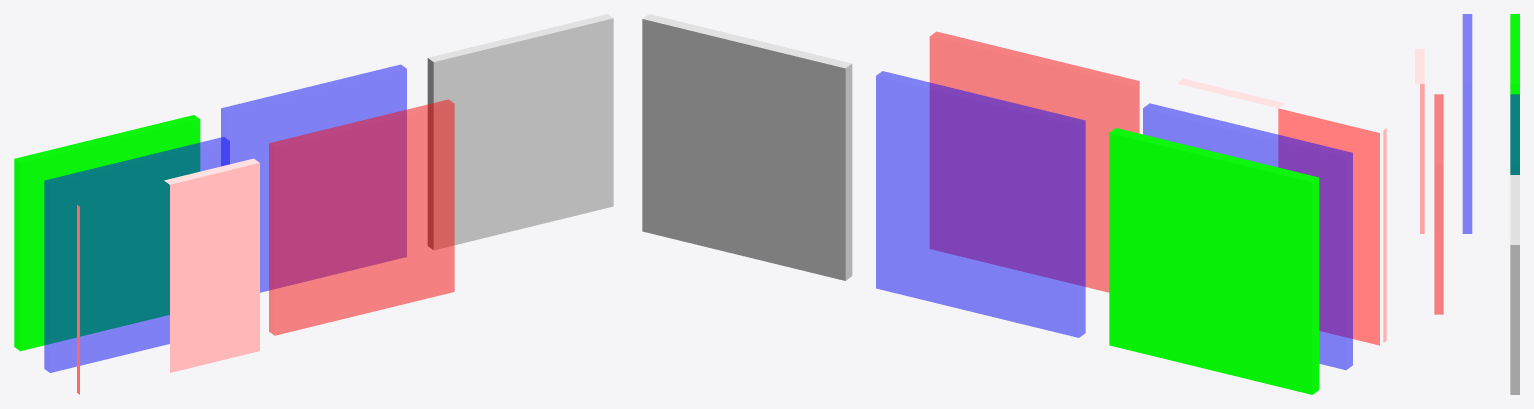
File: materials.gltf
3 views of the same model, side by side, from view 1: azimuth 30°, elevation 25°; view 2: azimuth 150°, elevation 25°; view 3: azimuth 270°, elevation 25° (orthographic). The views are drawn at different scales.
Bounding box in the file's own units: 5.74 × 1.74 × 1.1.
6 materials, 1 textured.
